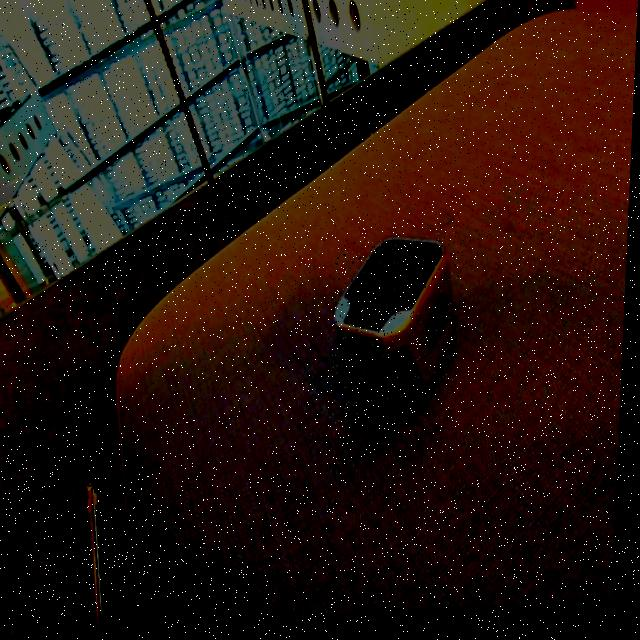adapter: (332, 237, 463, 432)
